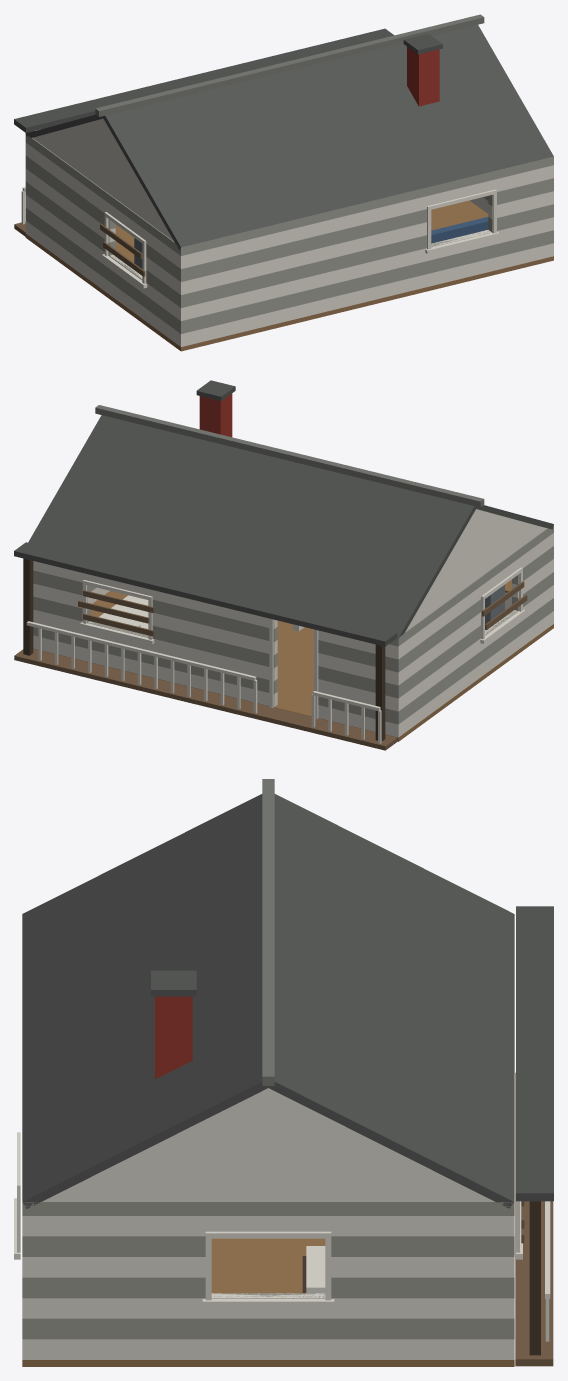
Rendered from house_small.glb.
3 views of the same model, one above another, from view 1: azimuth 30°, elevation 25°; view 2: azimuth 150°, elevation 25°; view 3: azimuth 270°, elevation 25° (orthographic). The views are drawn at different scales.
Parts seen in each view (by area): view 1: house_small; view 2: house_small; view 3: house_small.
Part boxes in pixels (x1,y1,x2,y2): house_small: (14,14,553,351); house_small: (14,380,553,750); house_small: (14,779,553,1366).
Size of what is drawn, in the model's own units: 9.3 by 4.7 by 7.13.
1 material, 1 textured.
